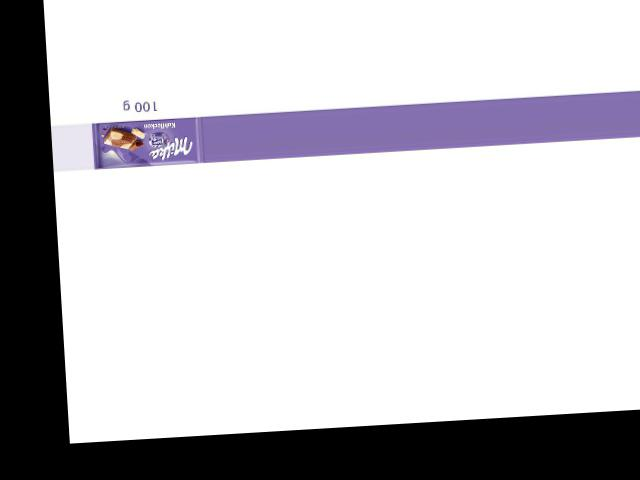chocolate: (90, 109, 204, 170)
